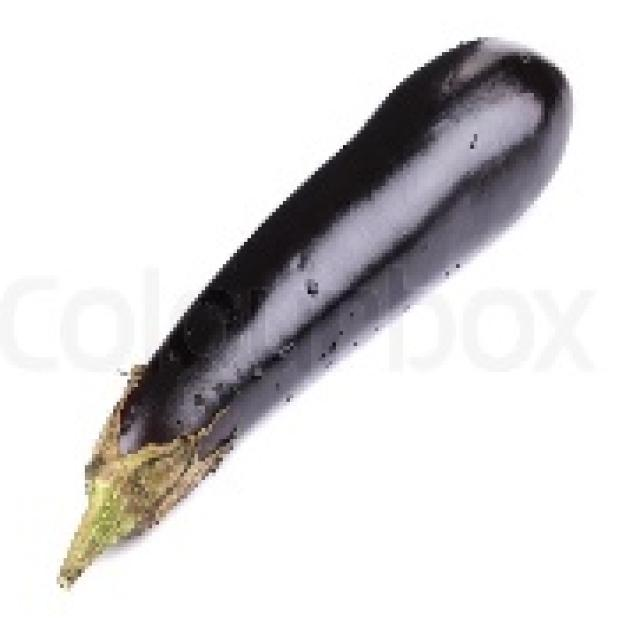eggplant: (74, 33, 580, 536)
